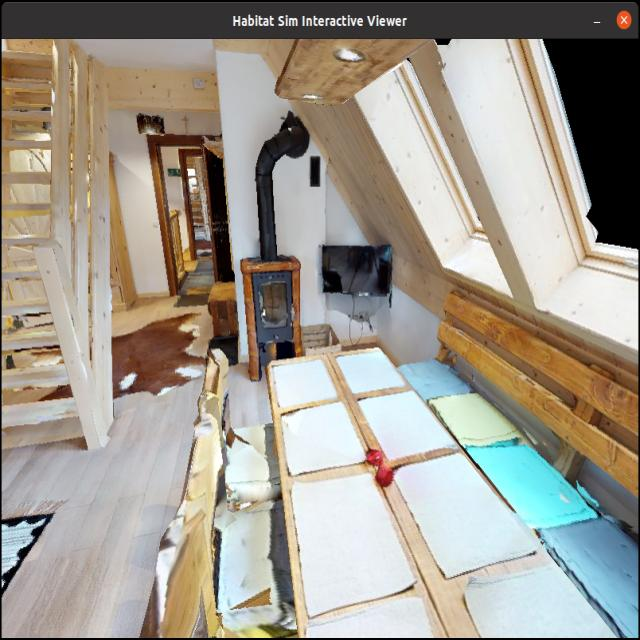door-frame: (142, 128, 231, 294)
stairs: (0, 10, 108, 449)
table: (255, 328, 552, 640)
